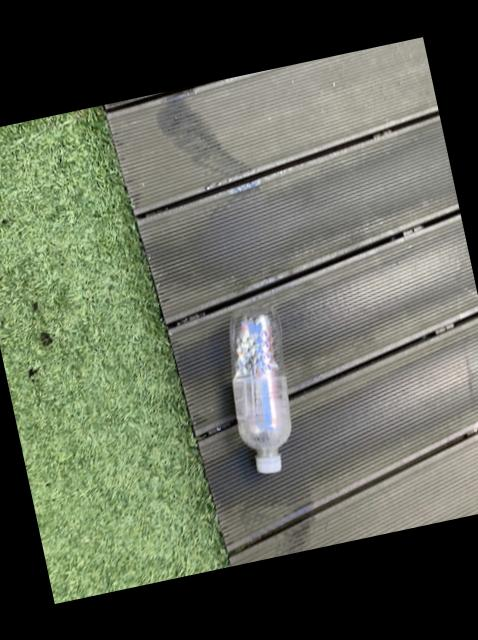plastic: (231, 307, 292, 474)
